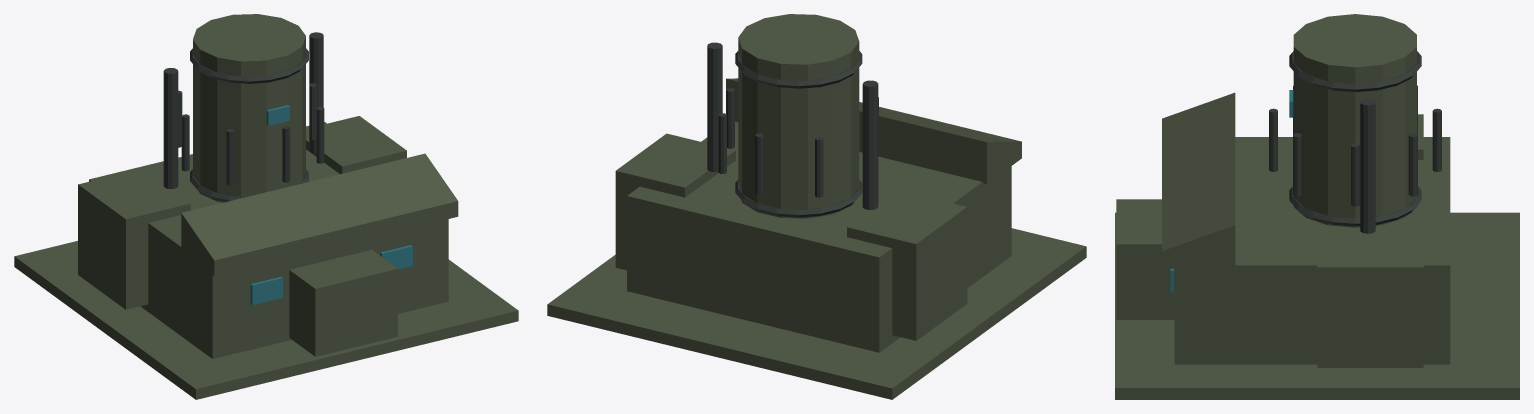
The model's file is Bastion_TechCenter_Base.obj.
3 renders of one model, left to right at view 1: azimuth 30°, elevation 25°; view 2: azimuth 150°, elevation 25°; view 3: azimuth 270°, elevation 25°, orthographic. The views are drawn at different scales.
Parts seen in each view (by area): view 1: Bastion_TechCenter_Base; view 2: Bastion_TechCenter_Base; view 3: Bastion_TechCenter_Base.
Part boxes in pixels (bbox=[...]): Bastion_TechCenter_Base: bbox=[14, 14, 518, 399]; Bastion_TechCenter_Base: bbox=[547, 14, 1086, 399]; Bastion_TechCenter_Base: bbox=[1115, 14, 1519, 399].
Size of the model in its own units: 8.2 by 5.93 by 8.
Materials: 1 (1 with a texture image).
